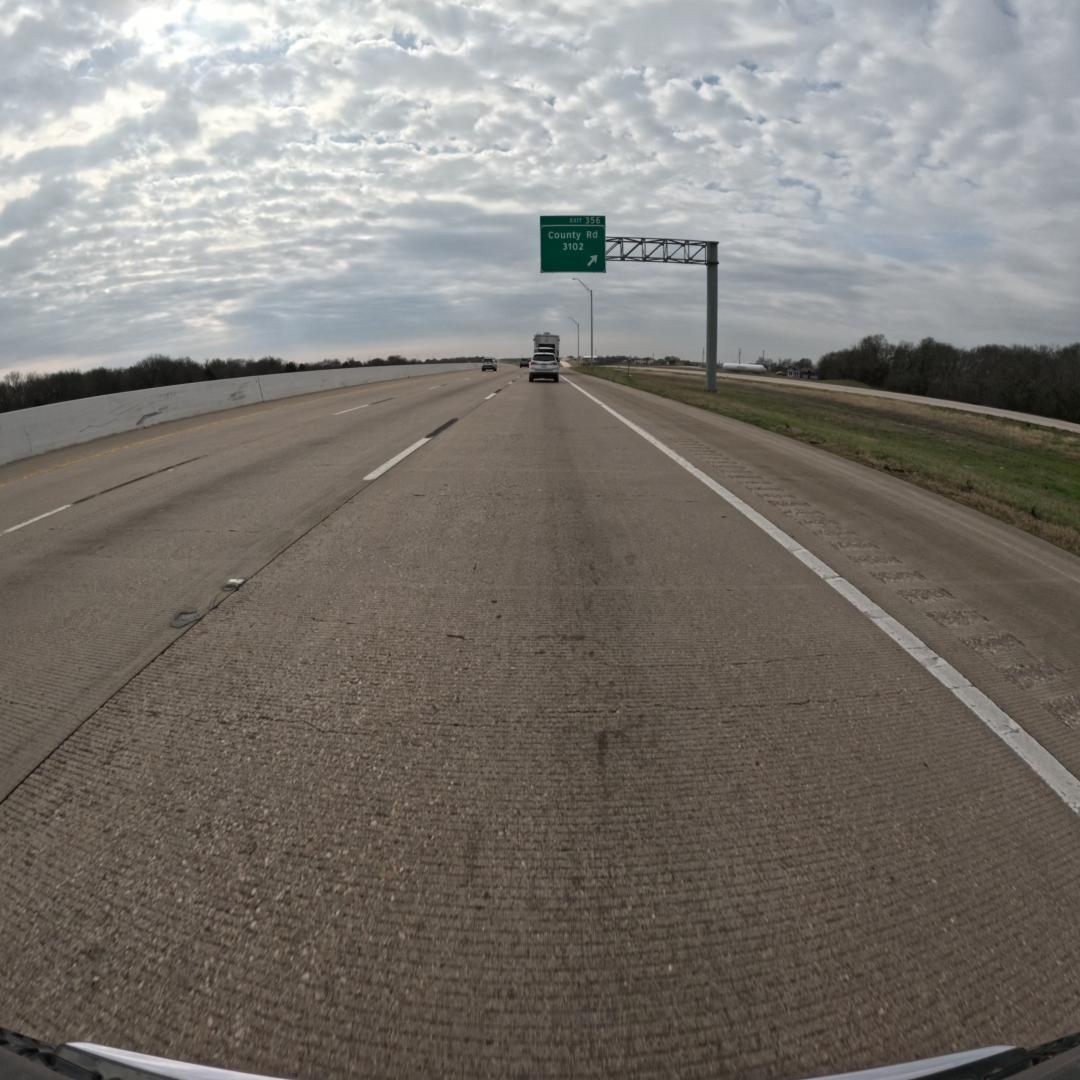lane0: (0, 377, 1080, 1076)
lane1: (0, 375, 518, 801)
